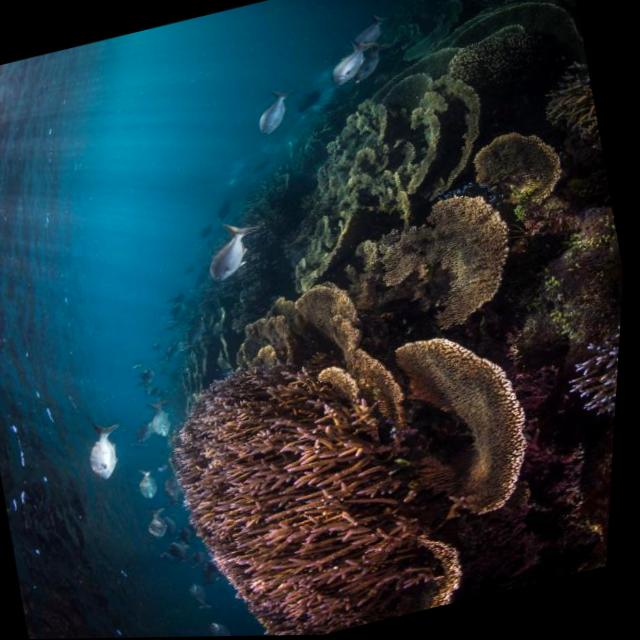Healthy Coral: (159, 337, 484, 638), (243, 71, 545, 369), (390, 319, 553, 554), (466, 124, 589, 242), (561, 319, 625, 433)
